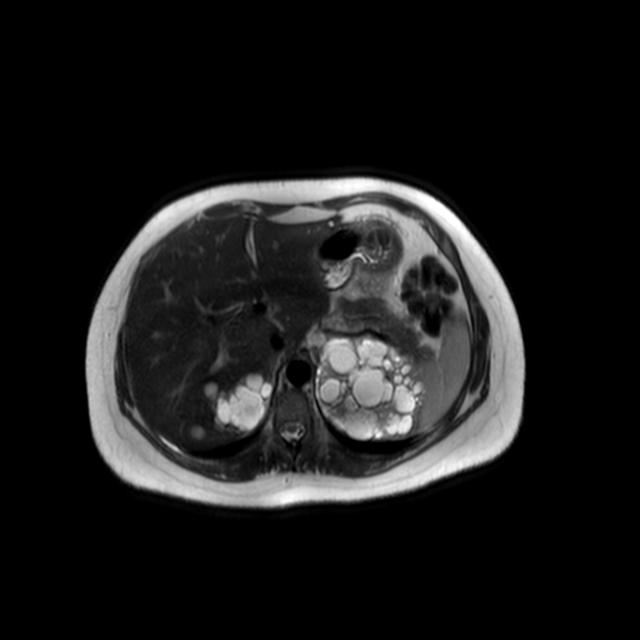sag: (202, 372, 270, 432)
sol: (314, 333, 426, 439)
